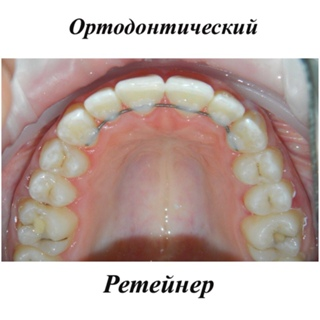UL1BC_decay: (232, 151, 284, 185)
UL1M_decay: (247, 217, 302, 258)
UL2BC_decay: (243, 187, 297, 216)
ULCI_decay: (165, 76, 211, 118)
ULC_decay: (226, 116, 267, 153)
ULLI_decay: (211, 91, 243, 126)
UR1BC_decay: (38, 141, 91, 177)
UR1M_decay: (18, 203, 77, 253)
UR2BC_healthy: (29, 169, 79, 207)
URCI_decay: (117, 76, 165, 113)
URC_decay: (59, 112, 101, 148)
URLI_decay: (87, 91, 123, 121)
